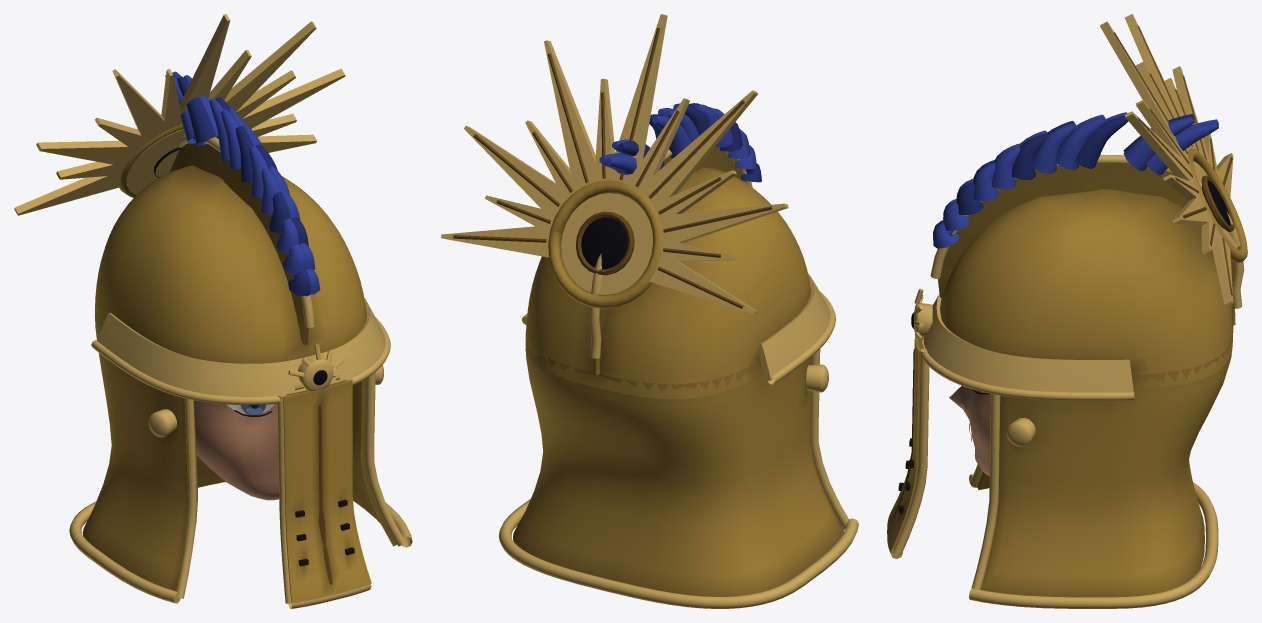
Rendered from h_celestial.glb.
3 renders of one model, left to right at view 1: azimuth 30°, elevation 25°; view 2: azimuth 150°, elevation 25°; view 3: azimuth 270°, elevation 25°, orthographic. The views are drawn at different scales.
Visible parts, largest first — view 1: CelestialHelm, HeadMesh; view 2: CelestialHelm; view 3: CelestialHelm, HeadMesh.
Part boxes in pixels (x1=…): CelestialHelm: x1=14, y1=14, x2=412, y2=608; HeadMesh: x1=194, y1=400, x2=279, y2=500; CelestialHelm: x1=441, y1=14, x2=858, y2=608; CelestialHelm: x1=887, y1=14, x2=1247, y2=608; HeadMesh: x1=949, y1=385, x2=990, y2=475.
Bounding box in the file's own units: 0.3171 × 0.5073 × 0.3184.
